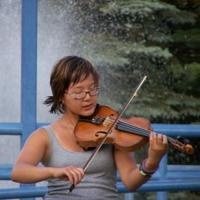person without safety: (25, 53, 141, 196)
